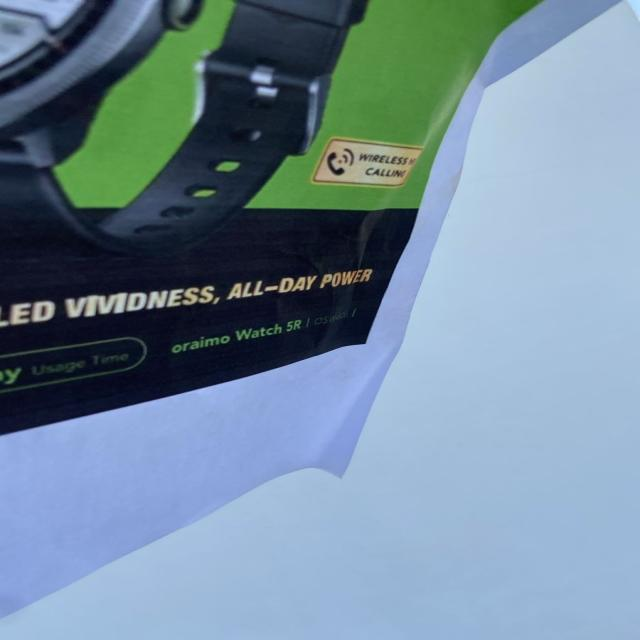Oraimo Watch 5R OSW-820: (158, 305, 367, 360)
